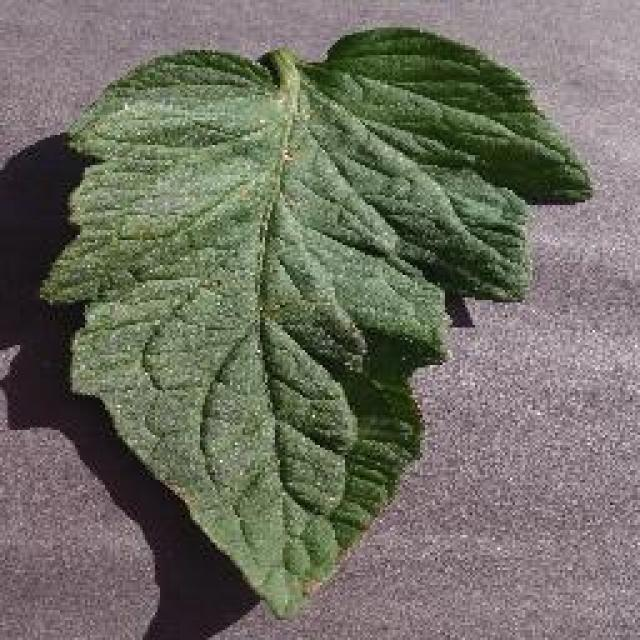Tomato___Target_Spot: (40, 28, 590, 615)
